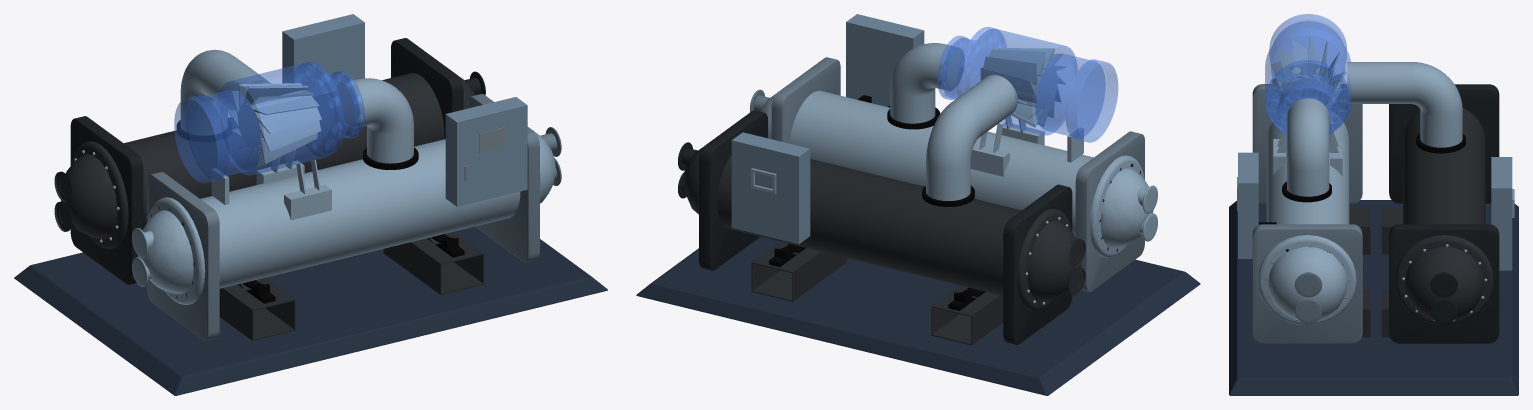
The model's file is 离心机.glb.
3 renders of one model, left to right at view 1: azimuth 30°, elevation 25°; view 2: azimuth 150°, elevation 25°; view 3: azimuth 270°, elevation 25°, orthographic. The views are drawn at different scales.
Parts seen in each view (by area): view 1: 立方体094, 柱体192, 柱体193, 柱体177, 立方体138, 柱体270, 立方体145, 柱体178, 立方体139, 柱体268, 立方体143, 柱体269 (+14 smaller); view 2: 立方体094, 柱体193, 柱体192, 立方体145, 柱体177, 柱体269, 柱体178, 立方体138, 立方体144, 立方体143, 柱体268, 立方体139 (+13 smaller); view 3: 立方体094, 柱体193, 立方体144, 立方体135, 柱体269, 柱体192, 柱体177, 柱体268, 立方体143, 立方体139, 球体054, 球体052 (+20 smaller).
Part boxes in pixels (<box>): 立方体094: <box>14,226,607,395</box>; 柱体192: <box>200,139,520,288</box>; 柱体193: <box>124,73,444,227</box>; 柱体177: <box>217,63,338,175</box>; 立方体138: <box>445,97,527,206</box>; 柱体270: <box>228,83,321,167</box>; 立方体145: <box>282,14,364,96</box>; 柱体178: <box>188,89,261,177</box>; 立方体139: <box>146,172,219,340</box>; 柱体268: <box>336,78,413,163</box>; 立方体143: <box>70,116,143,284</box>; 柱体269: <box>180,49,271,135</box>; 立方体094: <box>636,236,1200,395</box>; 柱体193: <box>717,155,1021,295</box>; 柱体192: <box>789,90,1093,237</box>; 立方体145: <box>731,132,810,244</box>; 柱体177: <box>962,28,1077,135</box>; 柱体269: <box>926,75,1017,200</box>; 柱体178: <box>1035,53,1105,137</box>; 立方体138: <box>846,14,924,106</box>; 立方体144: <box>699,110,767,270</box>; 立方体143: <box>1003,184,1072,344</box>; 柱体268: <box>890,43,964,123</box>; 立方体139: <box>1075,131,1144,291</box>; 立方体094: <box>1229,200,1518,395</box>; 柱体193: <box>1403,108,1485,224</box>; 立方体144: <box>1389,224,1499,343</box>; 立方体135: <box>1252,224,1362,343</box>; 柱体269: <box>1347,62,1462,147</box>; 柱体192: <box>1266,109,1349,224</box>; 柱体177: <box>1265,28,1351,130</box>; 柱体268: <box>1287,98,1329,196</box>; 立方体143: <box>1389,84,1499,203</box>; 立方体139: <box>1252,84,1362,203</box>; 球体054: <box>1267,247,1347,320</box>; 球体052: <box>1404,247,1483,320</box>.
Size of the model in its own units: 147 by 81.95 by 94.9.
